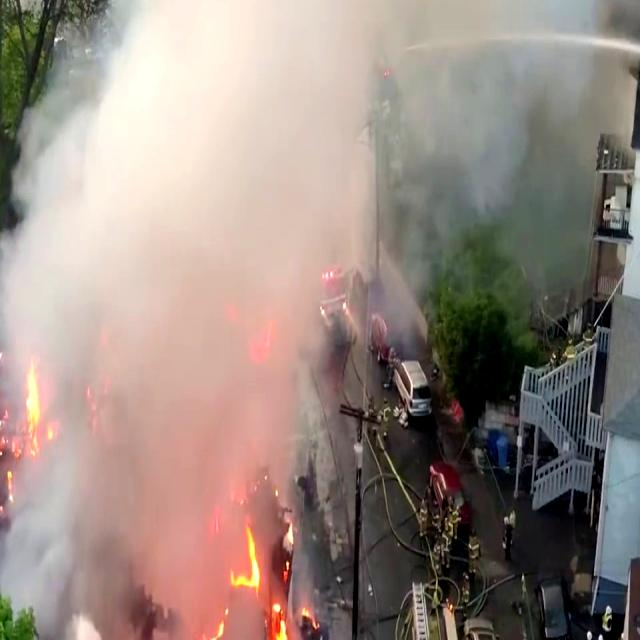fire: (213, 533, 294, 640)
smoke: (0, 0, 640, 640)
